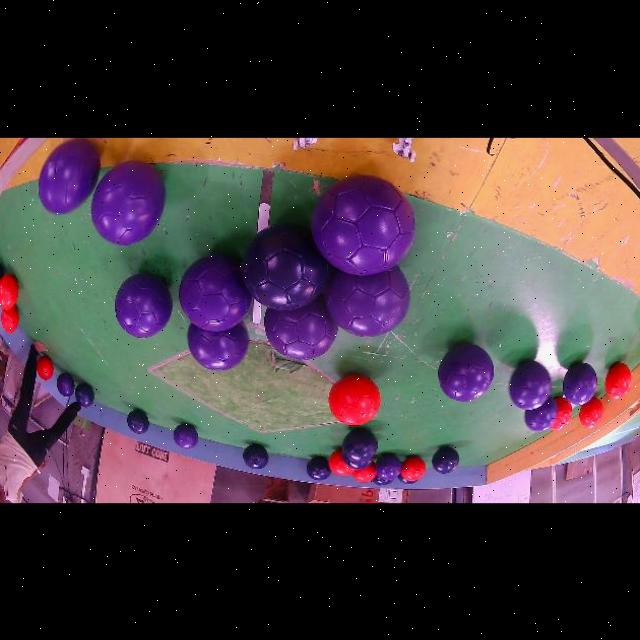B: (242, 225, 329, 311), (343, 429, 378, 463), (431, 447, 459, 475), (242, 444, 269, 470), (127, 410, 150, 436), (307, 457, 331, 481), (75, 383, 95, 409), (57, 374, 75, 397)
P: (312, 177, 415, 276), (91, 161, 166, 246), (326, 267, 410, 338), (179, 255, 252, 331), (264, 296, 339, 361), (39, 140, 100, 215), (115, 275, 172, 339), (438, 344, 494, 403), (188, 323, 249, 372), (509, 362, 551, 411), (562, 363, 598, 406), (524, 397, 557, 433), (376, 455, 402, 481), (174, 424, 199, 450)
R: (329, 376, 381, 427), (605, 363, 631, 400), (579, 399, 603, 429), (550, 398, 572, 430), (329, 450, 354, 477), (0, 276, 19, 311), (401, 457, 426, 483), (353, 463, 377, 484), (1, 307, 19, 334), (37, 357, 53, 381)
